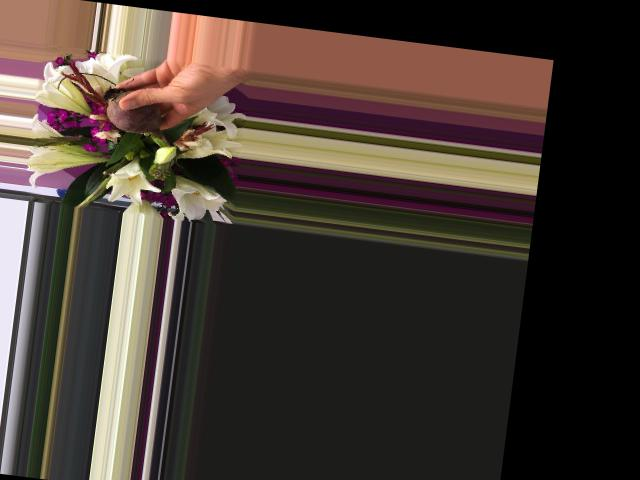beet: (97, 85, 179, 147)
